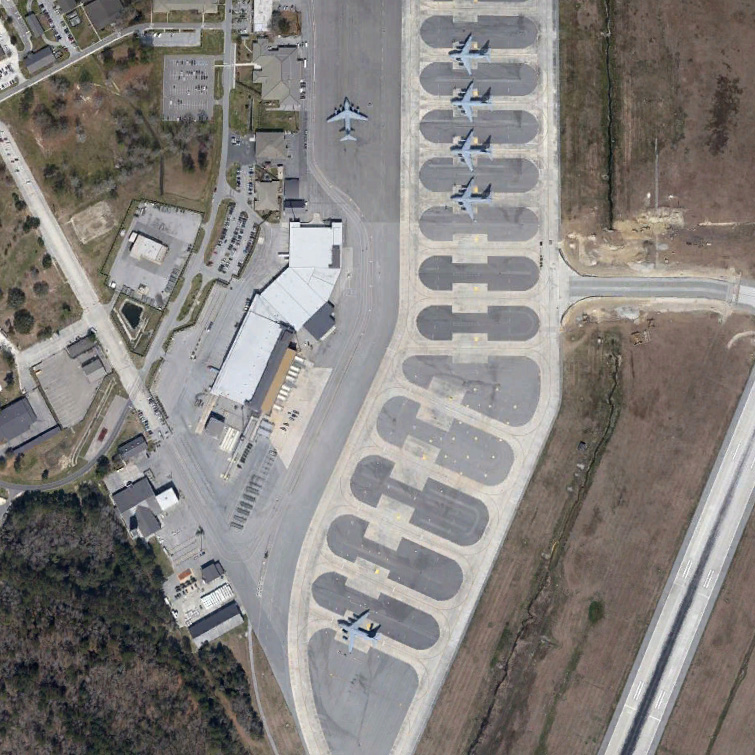A3: (336, 608, 382, 653), (448, 80, 495, 124), (327, 94, 369, 143), (448, 31, 493, 76), (448, 128, 494, 172), (450, 176, 496, 220)
